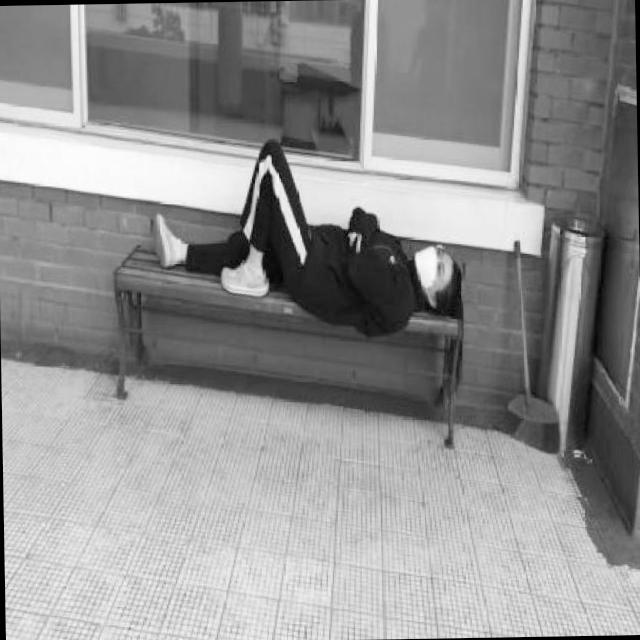person: (148, 131, 460, 344)
